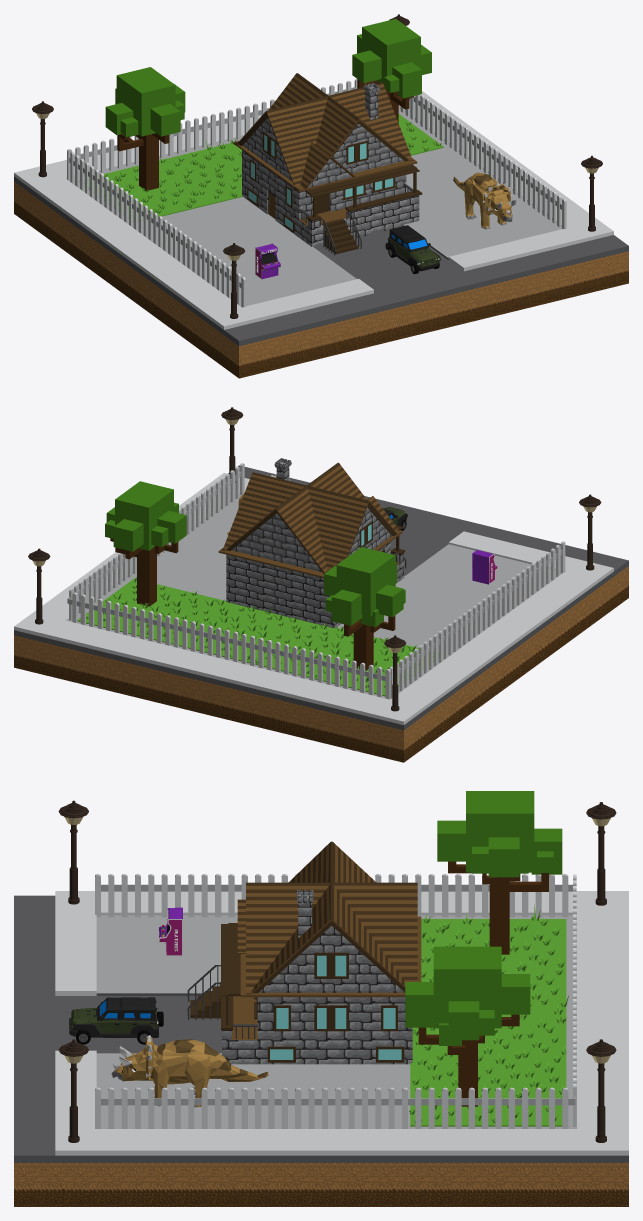
The picture shows the model from 3 angles, top to bottom: view 1: azimuth 30°, elevation 25°; view 2: azimuth 150°, elevation 25°; view 3: azimuth 270°, elevation 25°; orthographic projection. The views are drawn at different scales.
Visible parts, largest first — view 1: Cube.004, Cube.586, ANIMAL_Triceratops, VEHICLES_JEEP, OBJRANDOM_ARCADE; view 2: Cube.004, Cube.586, OBJRANDOM_ARCADE; view 3: Cube.004, Cube.586, ANIMAL_Triceratops, VEHICLES_JEEP, OBJRANDOM_ARCADE.
Boxes of the visible parts, left/top/right/bottom form: Cube.004: left=14, top=14, right=628, bottom=378; Cube.586: left=233, top=73, right=422, bottom=255; ANIMAL_Triceratops: left=453, top=172, right=516, bottom=229; VEHICLES_JEEP: left=385, top=225, right=440, bottom=274; OBJRANDOM_ARCADE: left=255, top=243, right=280, bottom=279; Cube.004: left=14, top=407, right=628, bottom=762; Cube.586: left=218, top=458, right=406, bottom=627; OBJRANDOM_ARCADE: left=472, top=549, right=497, bottom=584; Cube.004: left=14, top=791, right=628, bottom=1206; Cube.586: left=187, top=841, right=421, bottom=1064; ANIMAL_Triceratops: left=111, top=1035, right=268, bottom=1107; VEHICLES_JEEP: left=69, top=997, right=163, bottom=1044; OBJRANDOM_ARCADE: left=159, top=907, right=182, bottom=956.
Size of the model in its own units: 4000 by 1762 by 4000.
Materials: 38 (4 with a texture image).
